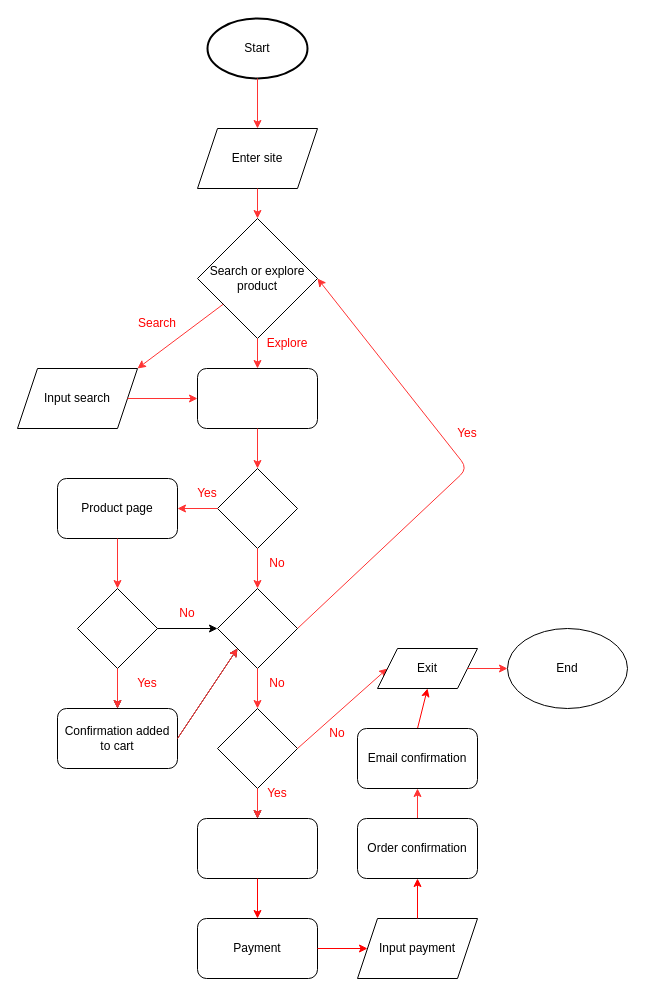
The diagram is 645 pixels wide and 996 high, and some of its shapes have lost their labels. The centre of each missing label's shape, as x and y in pixels:
Add to cart: the point at 117,628
Checkout: the point at 257,748
Continue shopping: the point at 257,628
Explore products: the point at 257,398
Look at product: the point at 257,508
View cart: the point at 257,848
